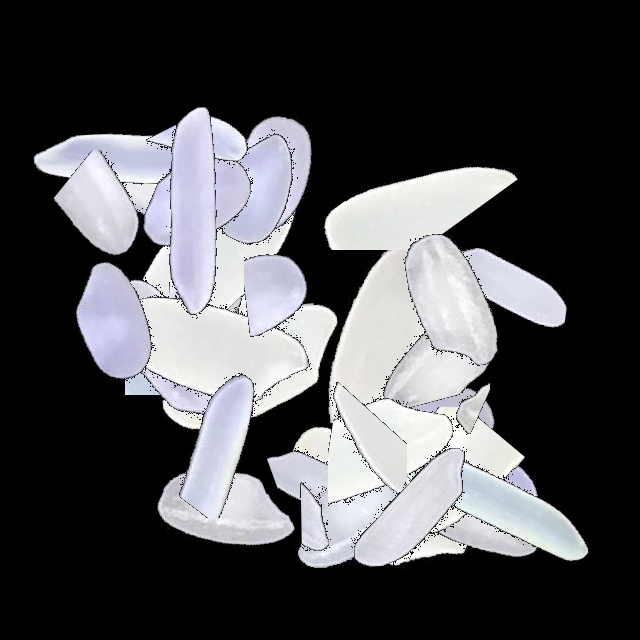Broken: (241, 393, 491, 565), (57, 174, 229, 424), (73, 278, 323, 449), (111, 347, 361, 518), (105, 94, 355, 260), (328, 335, 491, 585), (348, 195, 507, 445), (269, 100, 519, 250), (71, 236, 220, 486), (315, 407, 565, 551), (0, 150, 250, 292), (61, 296, 311, 429), (244, 163, 372, 413), (290, 354, 540, 479), (127, 62, 249, 312), (298, 343, 407, 593), (99, 215, 349, 322), (83, 312, 333, 417), (226, 450, 476, 551), (315, 340, 412, 590), (125, 224, 216, 474), (408, 253, 490, 503), (237, 415, 487, 494), (87, 193, 337, 269), (132, 316, 207, 566)
Full: (25, 56, 275, 306), (319, 323, 569, 573), (88, 163, 338, 413), (78, 238, 328, 488), (274, 329, 524, 579), (252, 376, 502, 626), (96, 384, 346, 634), (315, 296, 565, 546), (124, 243, 374, 493), (18, 33, 268, 283), (377, 162, 627, 412), (350, 390, 600, 640), (262, 213, 512, 463), (235, 390, 485, 640), (85, 145, 335, 395), (89, 130, 339, 380), (44, 219, 294, 469), (36, 231, 286, 481), (371, 382, 621, 632), (130, 60, 380, 310), (73, 79, 323, 329), (86, 218, 336, 468), (324, 174, 574, 424), (68, 84, 318, 334), (285, 383, 535, 633)
